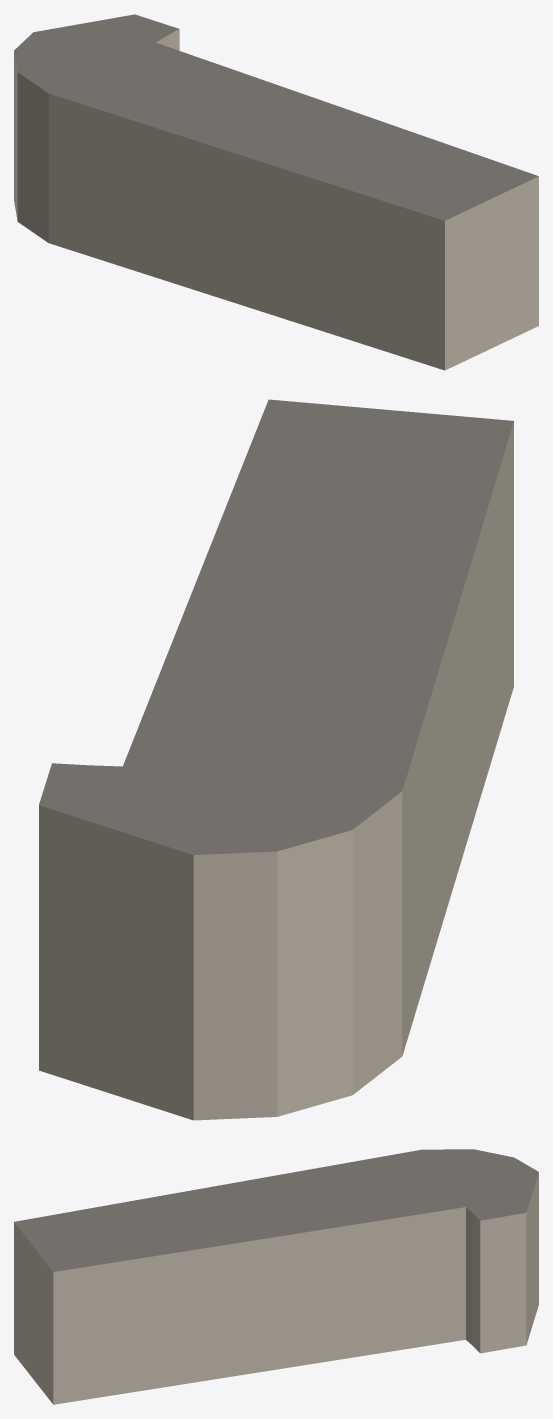
3 renders of one model, top to bottom at view 1: azimuth 30°, elevation 25°; view 2: azimuth 150°, elevation 25°; view 3: azimuth 270°, elevation 25°, orthographic. The views are drawn at different scales.
Parts seen in each view (by area): view 1: HP-w369237881; view 2: HP-w369237881; view 3: HP-w369237881.
Boxes of the visible parts, bbox=[...] form: HP-w369237881: bbox=[14, 14, 538, 370]; HP-w369237881: bbox=[39, 399, 513, 1120]; HP-w369237881: bbox=[14, 1149, 538, 1404].
Size of the model in its own units: 35.77 by 18 by 64.54.
